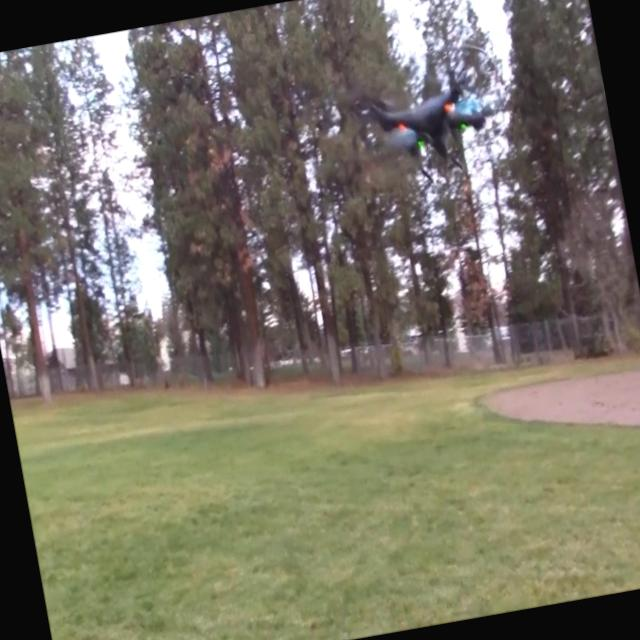drone: (352, 56, 501, 208)
